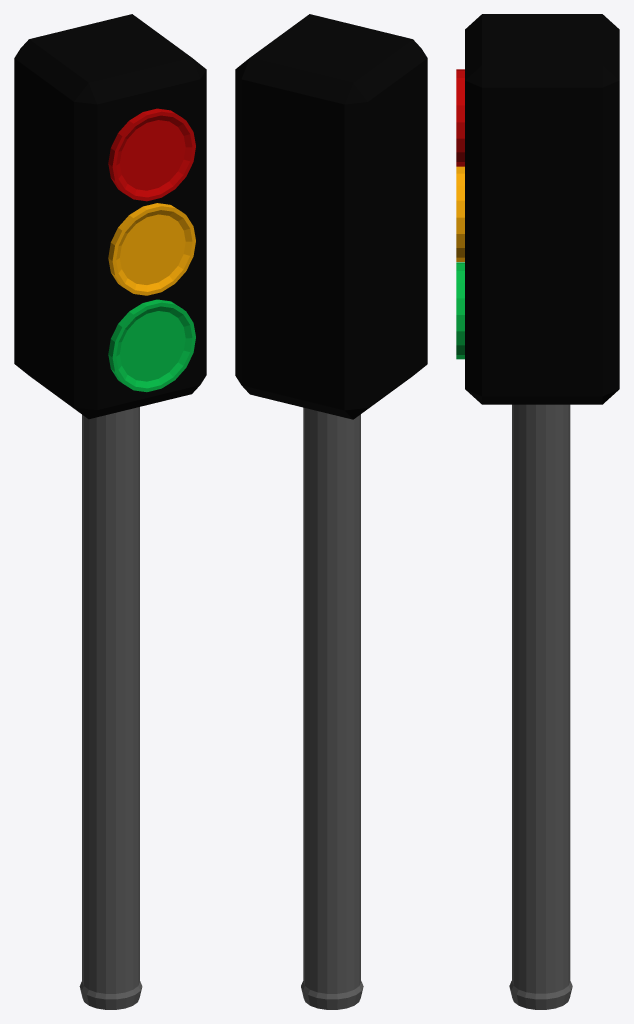
Rendered from TRAFFIC LIGHT.011_Material.045.glb.
The picture shows the model from 3 angles, left to right: view 1: azimuth 30°, elevation 25°; view 2: azimuth 150°, elevation 25°; view 3: azimuth 270°, elevation 25°; orthographic projection.
Visible parts, largest first — view 1: TRAFFIC LIGHT.011_Material.045_0; view 2: TRAFFIC LIGHT.011_Material.045_0; view 3: TRAFFIC LIGHT.011_Material.045_0.
Boxes of the visible parts, x1=… form: TRAFFIC LIGHT.011_Material.045_0: x1=14, y1=14, x2=206, y2=1009; TRAFFIC LIGHT.011_Material.045_0: x1=235, y1=14, x2=427, y2=1009; TRAFFIC LIGHT.011_Material.045_0: x1=456, y1=14, x2=619, y2=1009.
Size of the model in its own units: 0.1496 by 1.02 by 0.158.
1 material, 1 textured.
